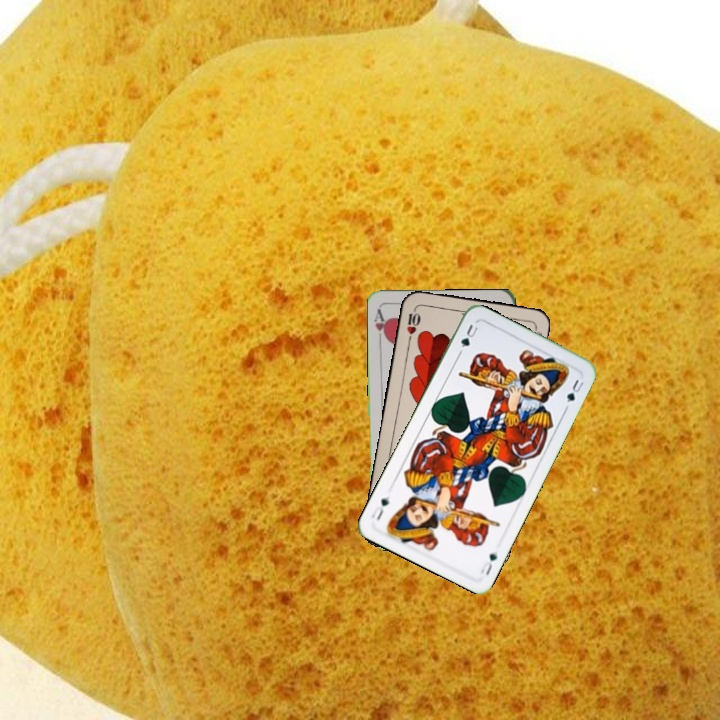GU: (455, 320, 480, 356), (477, 547, 500, 578)
H10: (403, 304, 423, 344)
HA: (370, 305, 390, 345)
